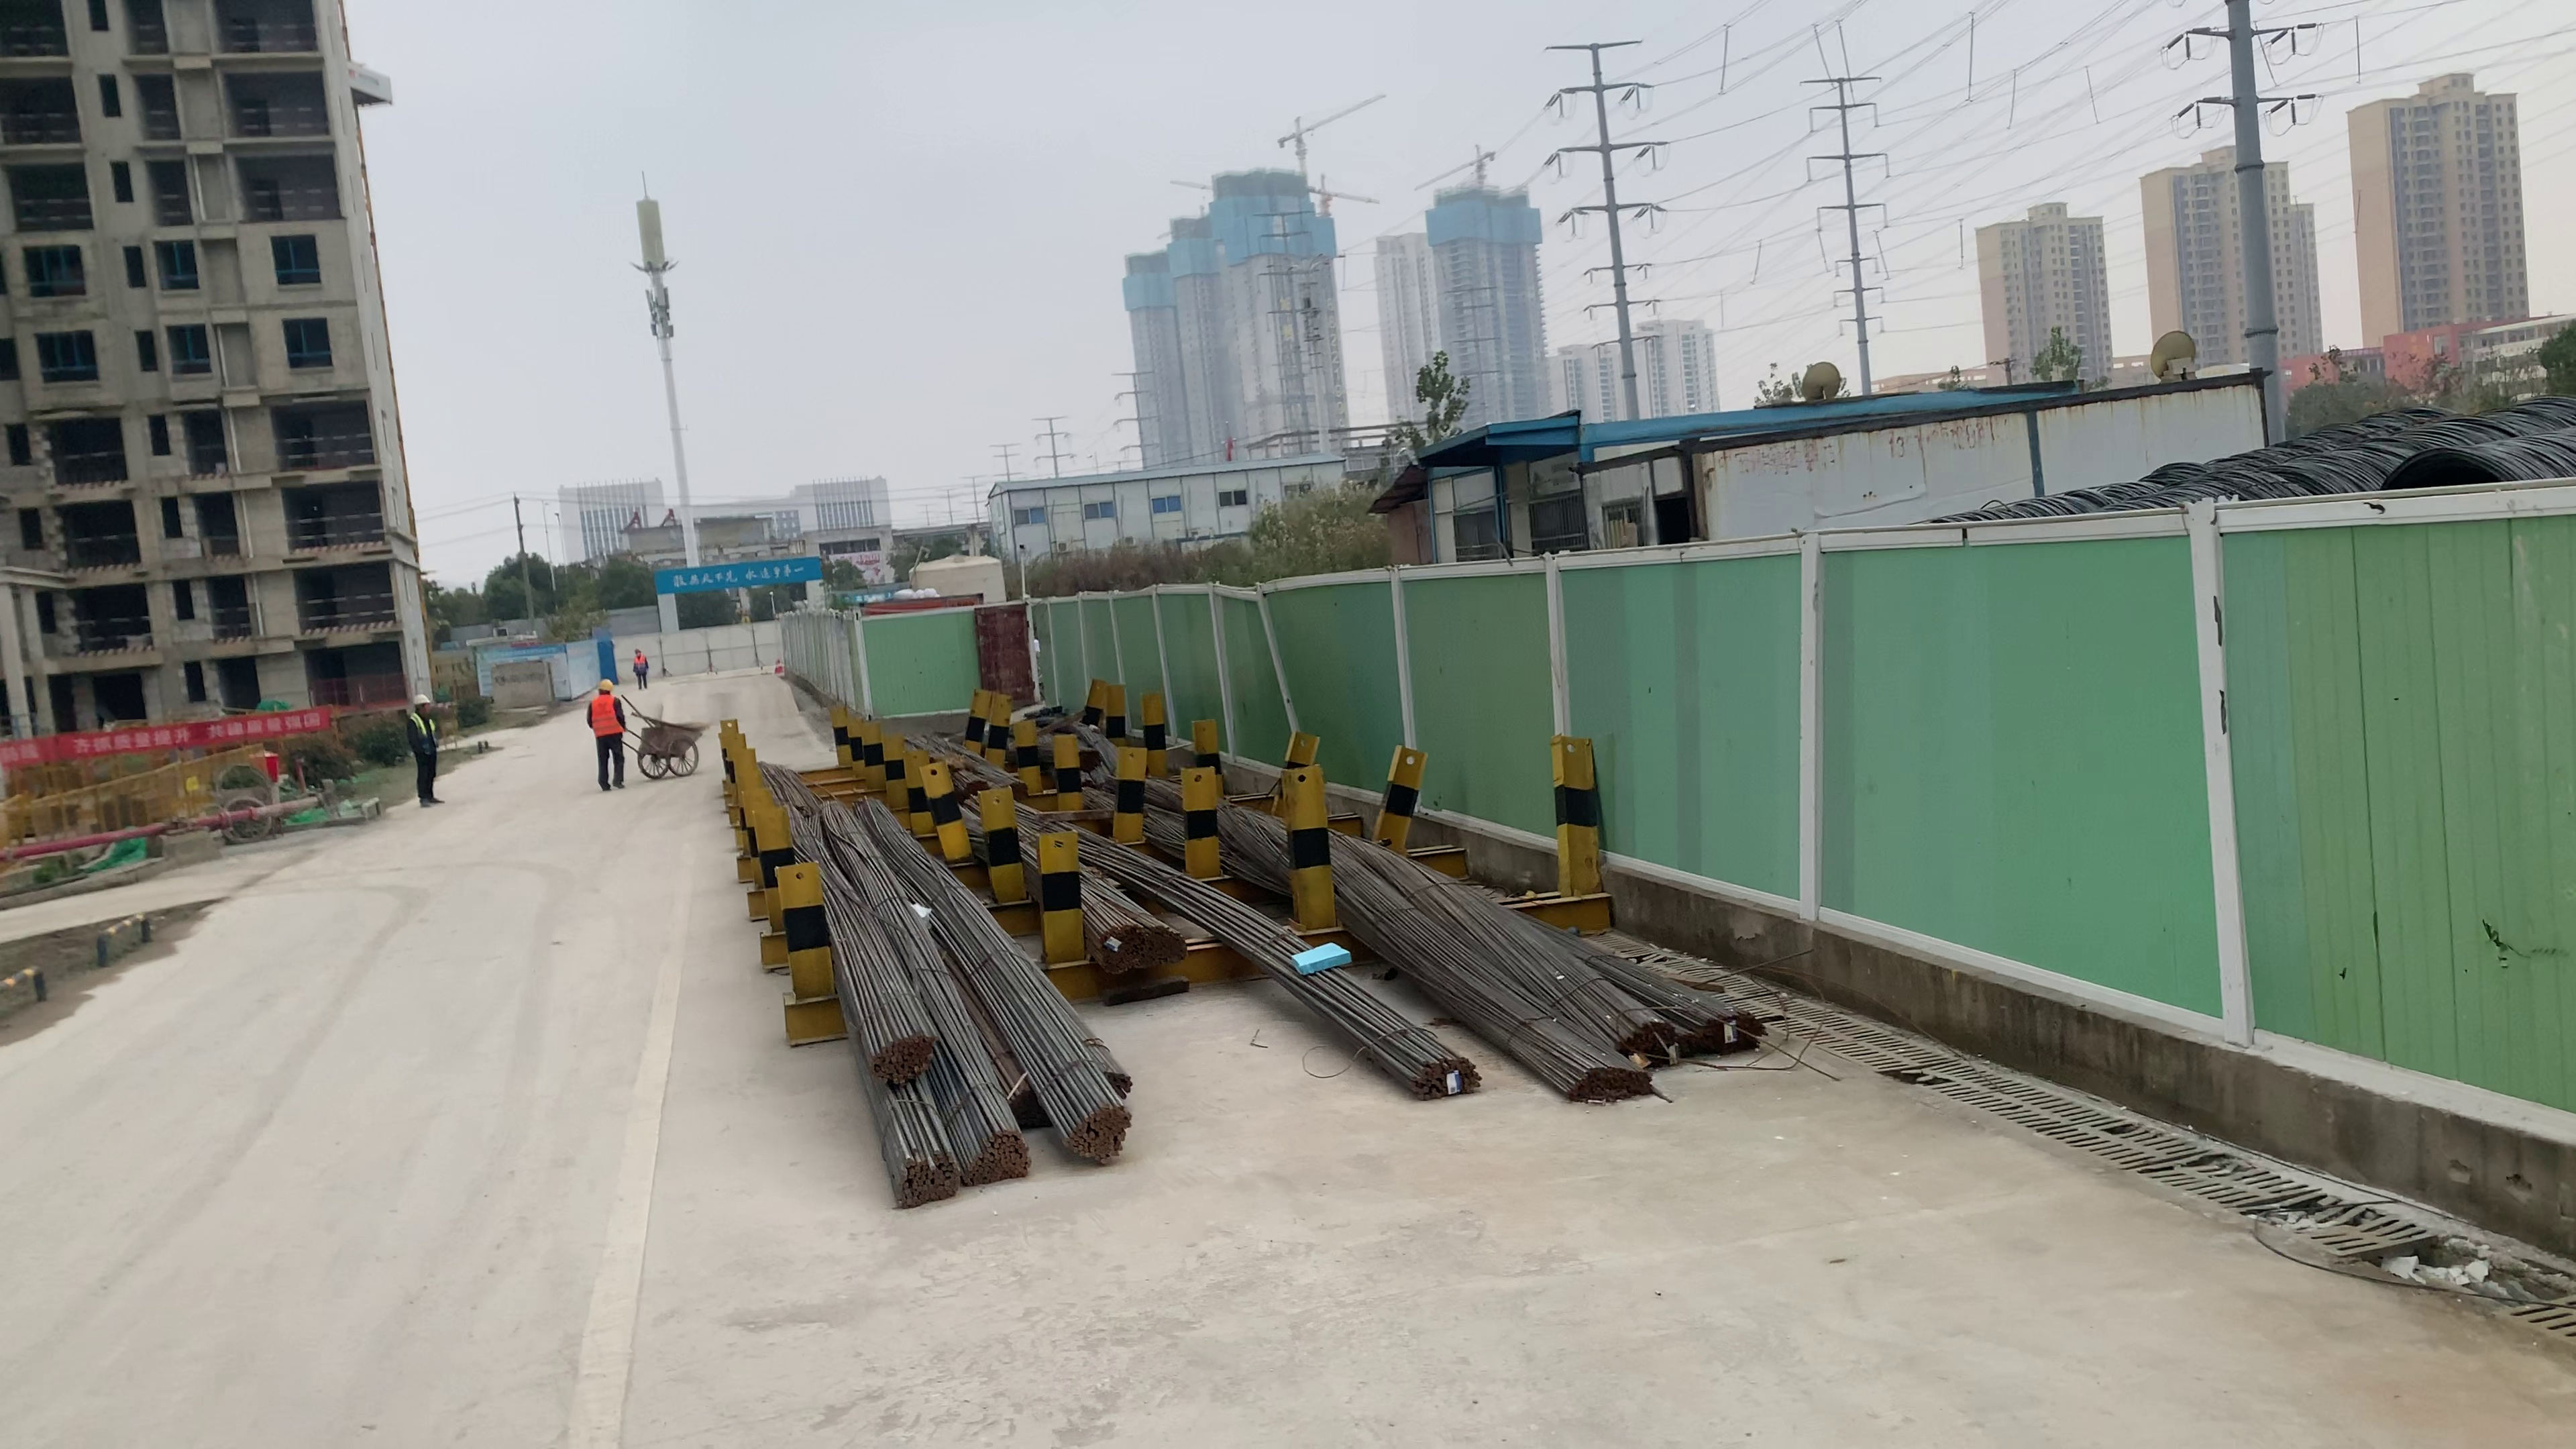rebar: (1060, 1104, 1134, 1162), (964, 1127, 1035, 1182), (1407, 1054, 1483, 1104), (872, 1030, 938, 1085), (893, 1148, 957, 1201), (1691, 1010, 1764, 1056), (1566, 1065, 1656, 1099), (1097, 924, 1145, 977), (1145, 924, 1191, 978), (1621, 1019, 1675, 1060), (1010, 1079, 1047, 1115), (1097, 1062, 1138, 1092)
